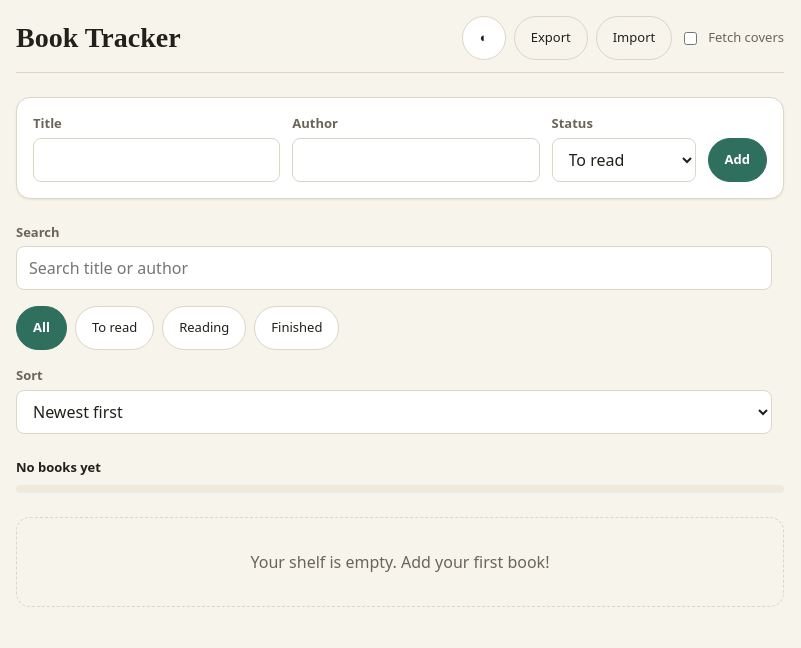
AddBookForm › shows "Please enter an author" when only the author is missing
This screenshot has width=801, height=648.
In the field labelled "Title": (157, 160) [33,138,280,182], type "Aadujeevitham"
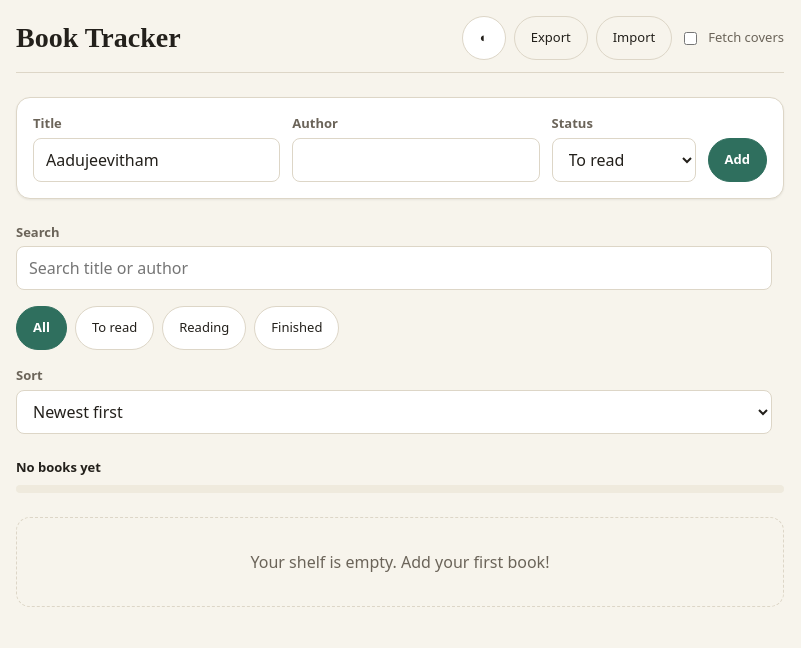
Click the button "Add": (737, 160) [708,138,767,182]
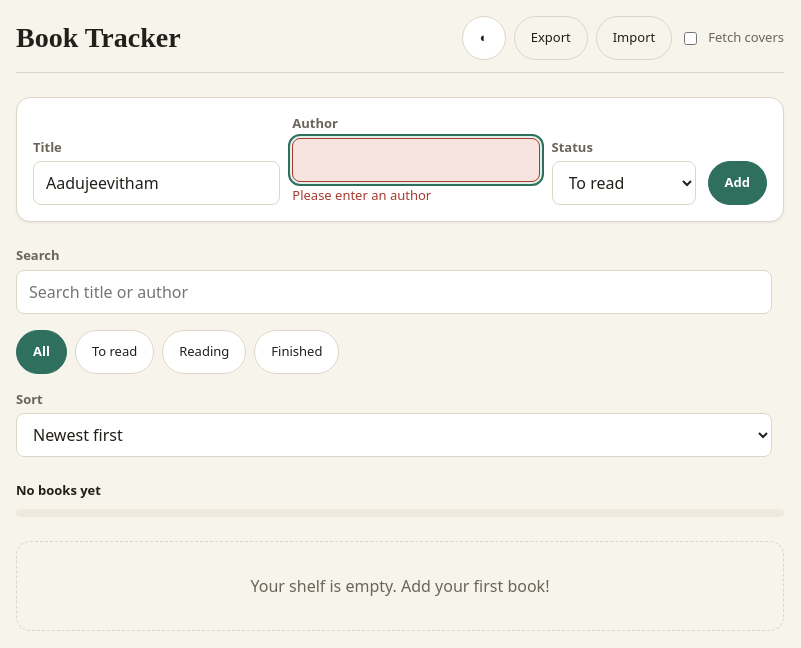
Check: the message "Please enter an author" is shown, box [292,186,431,204]
